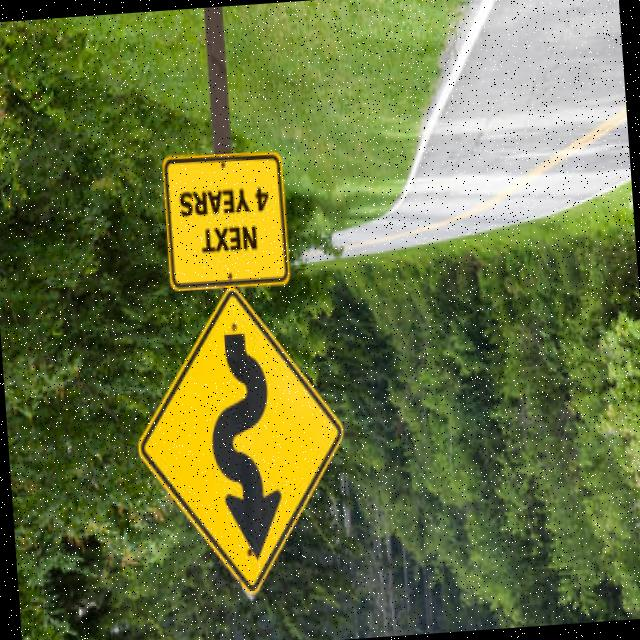left_sharp_curve: (121, 281, 362, 602)
